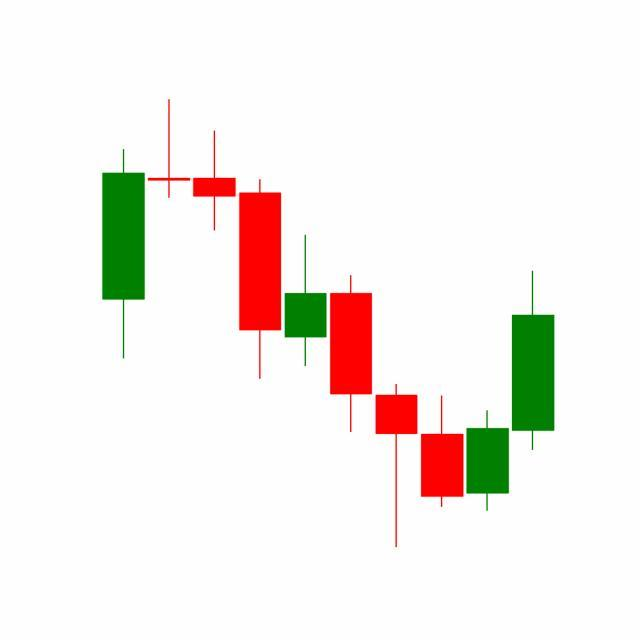Hikkake Pattern: (283, 231, 512, 549)
